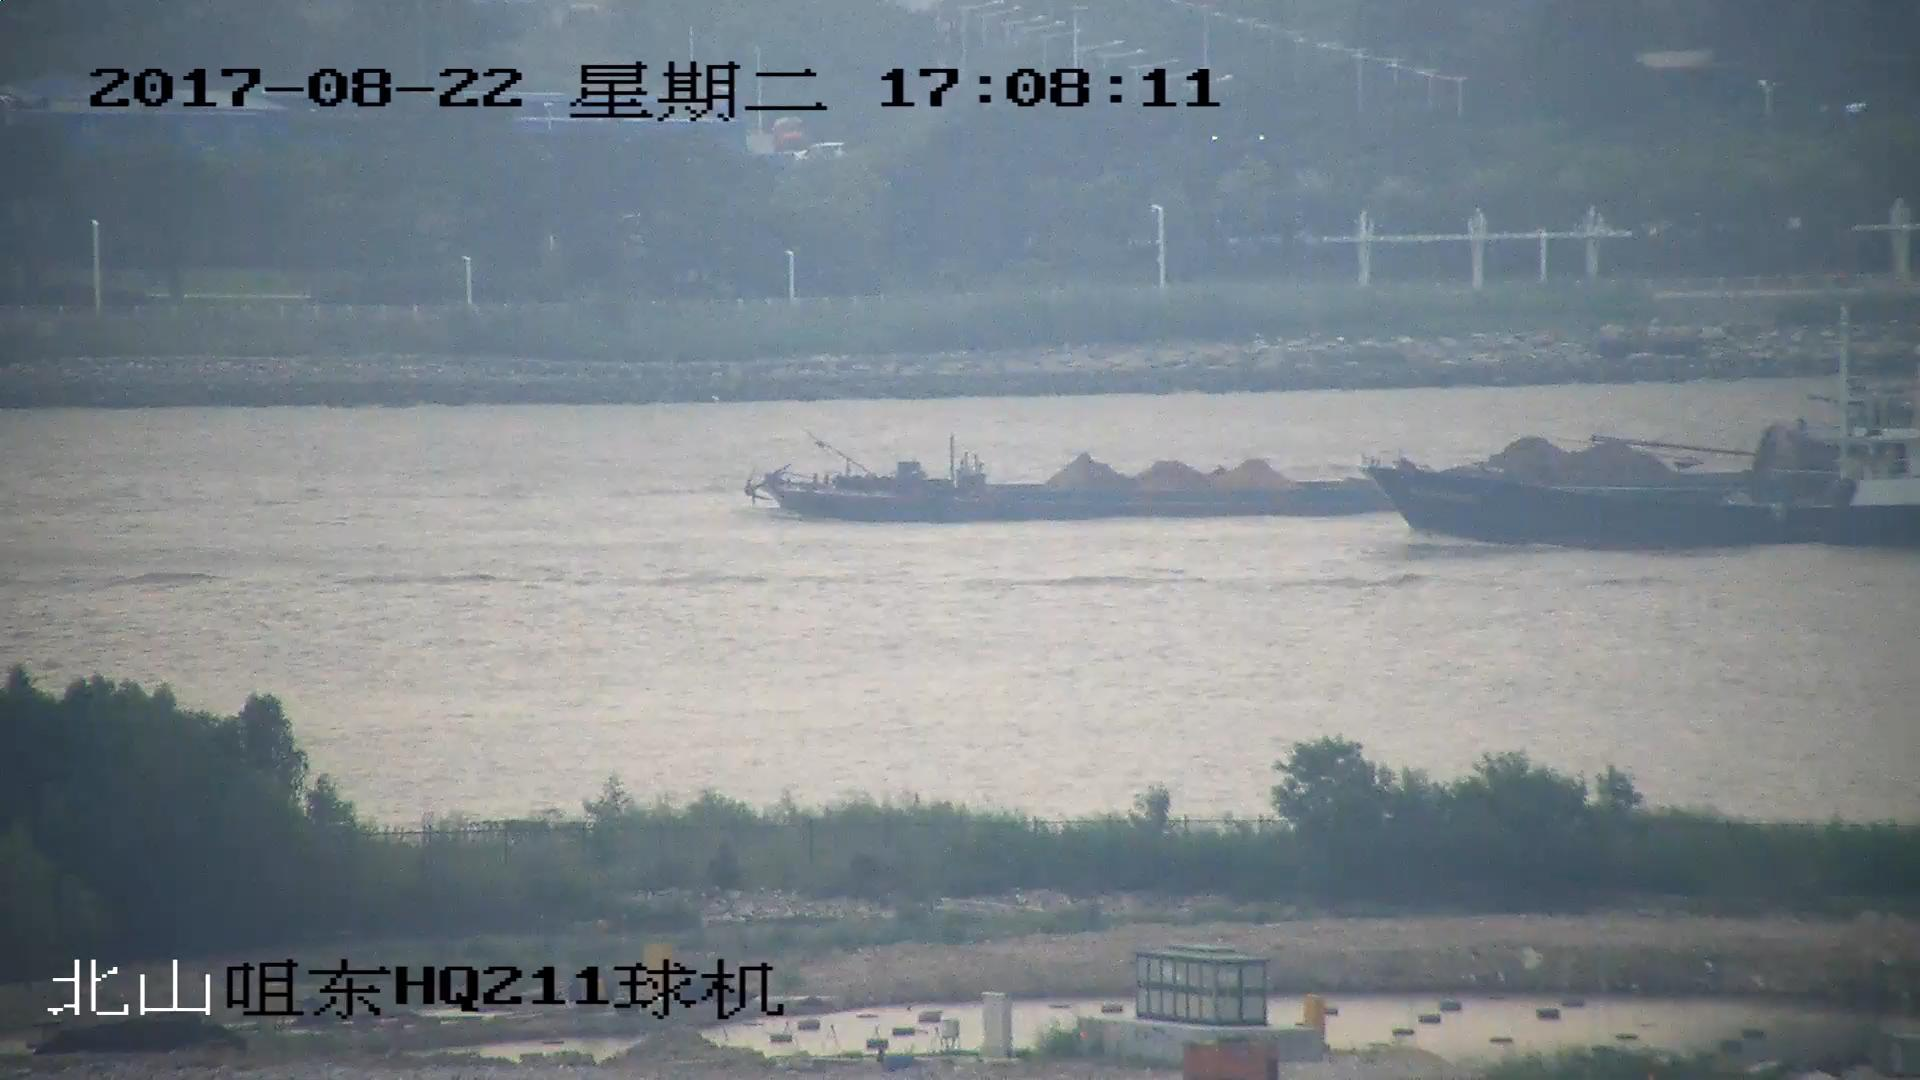Ship: (746, 389, 1920, 527), (1366, 415, 1920, 543)
